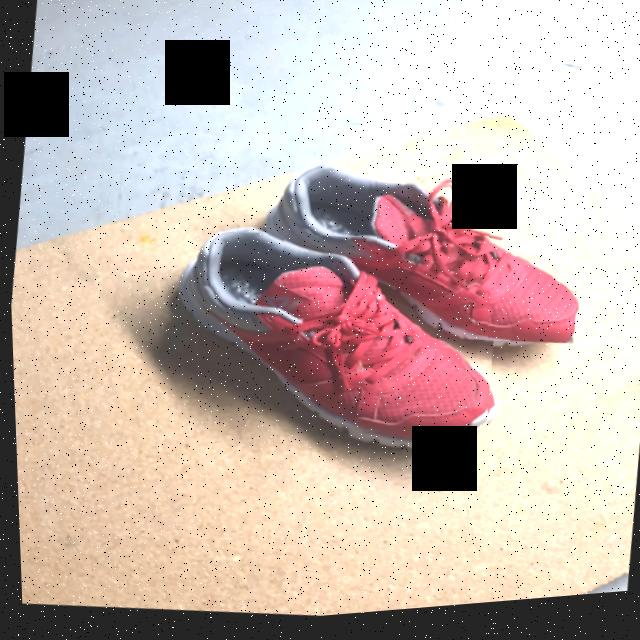shoe: (176, 235, 484, 442), (362, 190, 574, 352)
